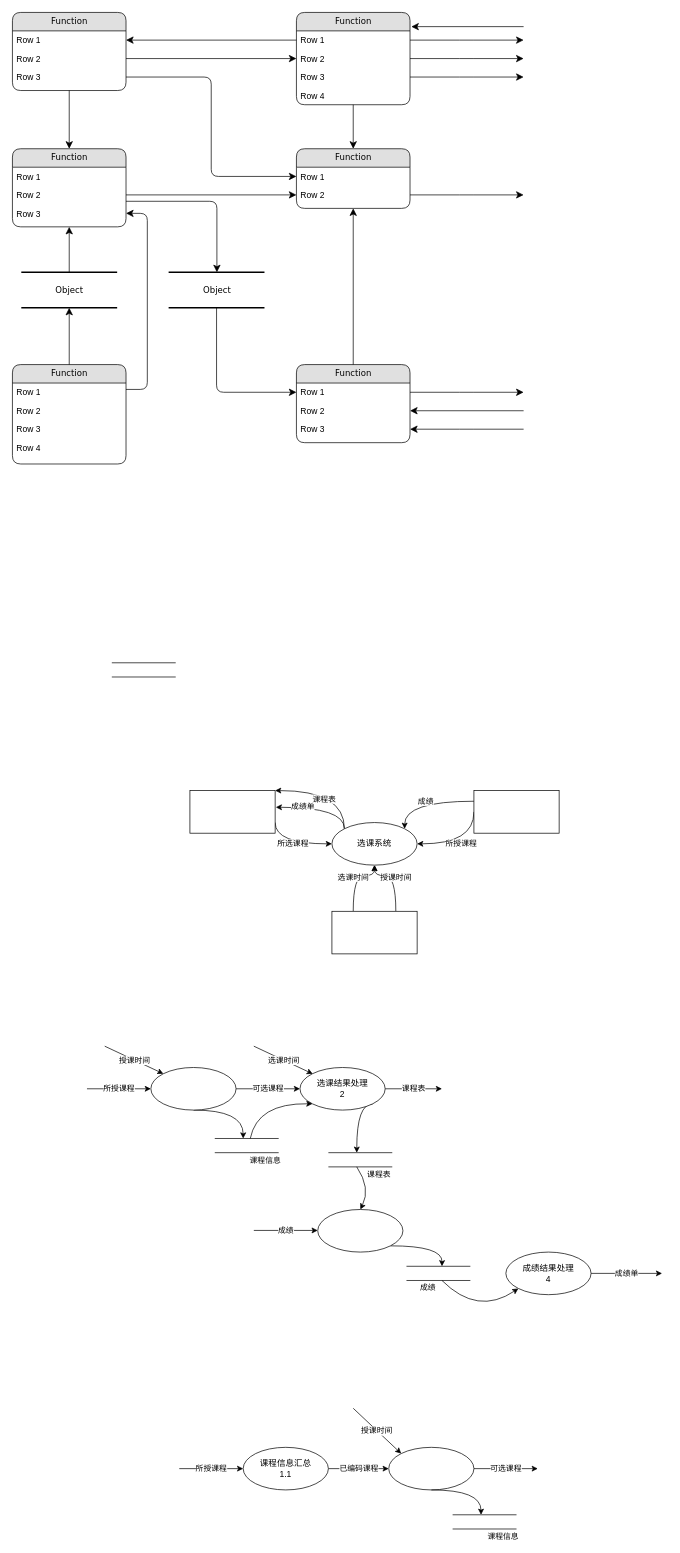
Some shapes in this 680 by 1553 pixel diagram are drawn without their labels. The box of each missing label's shape, as (x1, y1, x2, y2) in pixels:
学生: (189, 790, 275, 833)
成绩统计 3: (317, 1209, 403, 1252)
教师: (473, 790, 559, 833)
管理员: (331, 911, 417, 954)
课程信息处理 1: (150, 1067, 236, 1110)
课程时间分配 1.2: (388, 1447, 474, 1490)
